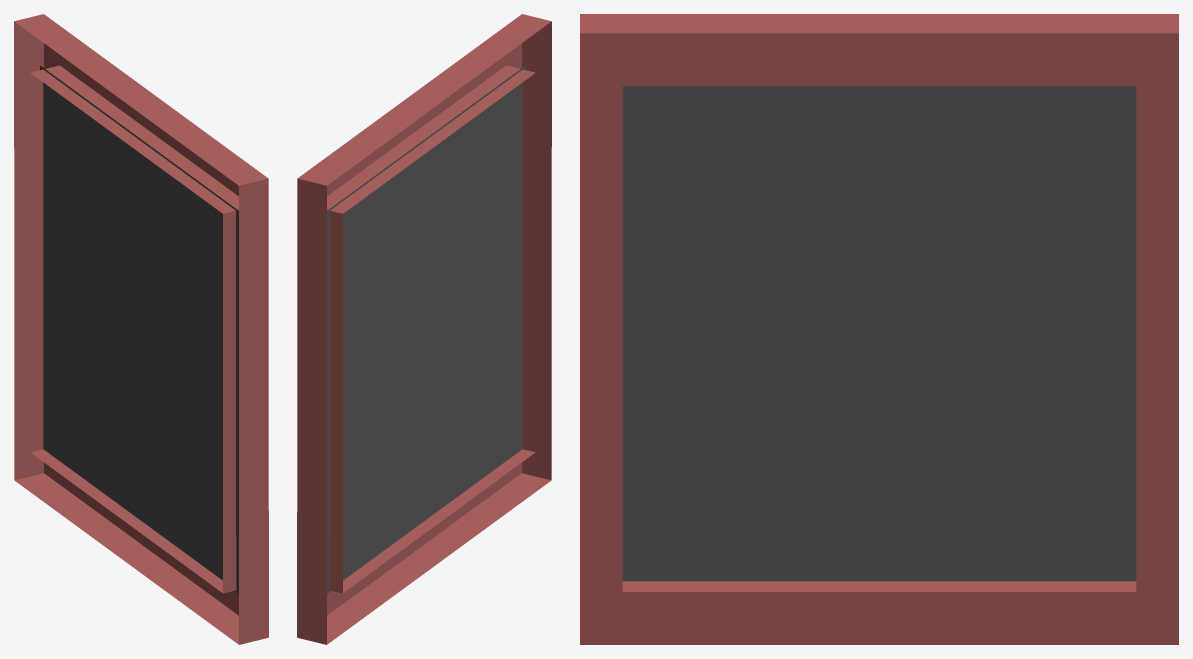
Rendered from Office2_Photoframe_3.fbx.
3 views of the same model, side by side, from view 1: azimuth 30°, elevation 25°; view 2: azimuth 150°, elevation 25°; view 3: azimuth 270°, elevation 25° (orthographic). The views are drawn at different scales.
Visible parts, largest first — view 1: Office2_Photoframe_3; view 2: Office2_Photoframe_3; view 3: Office2_Photoframe_3.
Boxes of the visible parts, bbox=[...] form: Office2_Photoframe_3: bbox=[14, 14, 268, 644]; Office2_Photoframe_3: bbox=[297, 14, 551, 644]; Office2_Photoframe_3: bbox=[580, 14, 1178, 644].
Size of the model in its own units: 3.27 by 47.79 by 42.41.
